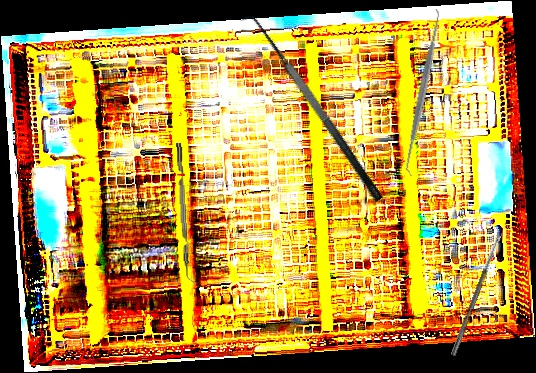Chopper: (176, 142, 196, 285)
Spatula Surgical: (235, 7, 385, 213), (396, 8, 450, 177)
Surgical Spoon: (450, 231, 504, 357)
